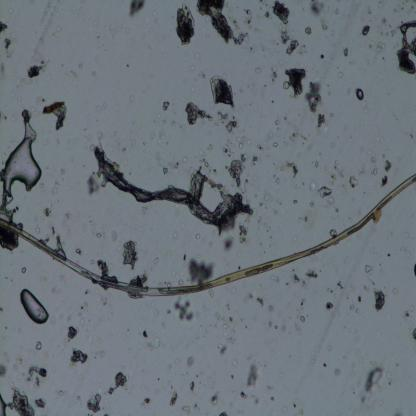Air bubble: (91, 144, 248, 233), (2, 132, 45, 200), (19, 289, 52, 327), (355, 86, 364, 102)
Background material: (249, 116, 303, 165), (196, 0, 246, 48), (29, 1, 56, 60), (0, 384, 47, 416), (224, 142, 250, 192), (359, 363, 389, 401), (397, 18, 416, 76), (325, 151, 351, 191), (212, 310, 235, 354), (173, 2, 196, 46), (209, 74, 236, 111), (158, 147, 181, 184), (256, 187, 284, 217), (281, 66, 307, 98), (119, 234, 140, 272), (186, 255, 214, 283), (172, 294, 198, 324), (266, 303, 288, 337), (74, 280, 92, 321), (42, 101, 67, 130), (183, 101, 211, 126), (370, 158, 393, 187), (304, 78, 323, 113), (84, 168, 105, 199), (93, 257, 118, 283), (290, 266, 319, 287), (24, 360, 49, 384), (50, 224, 67, 258), (214, 111, 238, 135), (274, 154, 297, 178), (278, 30, 301, 54), (106, 371, 128, 396), (0, 226, 19, 254), (189, 47, 205, 80), (138, 328, 162, 350), (237, 0, 254, 31), (200, 140, 216, 172), (328, 275, 348, 300), (82, 389, 102, 413), (20, 112, 37, 140), (272, 0, 291, 25), (68, 346, 90, 366), (288, 394, 307, 416), (246, 362, 260, 389), (379, 16, 397, 37), (124, 135, 141, 157), (26, 60, 48, 77), (143, 128, 169, 142), (344, 296, 364, 314), (396, 241, 414, 260), (128, 0, 146, 19), (269, 265, 285, 286), (53, 165, 62, 201), (130, 272, 149, 289), (316, 182, 333, 200), (300, 210, 318, 227), (256, 0, 271, 20), (181, 349, 196, 369), (372, 288, 385, 311), (308, 0, 324, 18), (0, 0, 18, 16), (64, 65, 81, 81), (65, 323, 79, 342), (374, 40, 388, 57), (166, 388, 179, 406), (220, 237, 235, 252), (148, 253, 160, 271), (403, 304, 415, 322), (93, 124, 103, 145), (159, 98, 172, 114), (271, 64, 280, 86), (360, 22, 374, 36), (305, 180, 318, 195), (316, 112, 327, 129), (178, 398, 191, 412), (202, 283, 214, 298), (42, 201, 52, 219), (138, 392, 150, 406), (395, 0, 409, 12), (318, 18, 328, 34), (350, 174, 360, 190), (251, 64, 264, 76), (3, 36, 12, 53), (236, 135, 246, 150), (137, 205, 149, 217), (332, 366, 344, 378), (237, 389, 250, 400), (124, 90, 134, 104), (0, 359, 7, 378), (96, 101, 108, 112), (209, 392, 218, 406), (363, 263, 374, 274), (255, 295, 264, 308), (34, 215, 40, 234), (342, 44, 350, 58), (328, 228, 338, 239), (324, 301, 334, 312), (316, 50, 326, 61), (400, 229, 411, 239), (410, 325, 416, 343), (318, 358, 327, 370), (67, 208, 74, 223), (94, 227, 104, 237), (252, 394, 259, 408), (194, 227, 202, 239), (336, 68, 344, 80), (72, 247, 82, 256), (33, 340, 42, 350), (312, 160, 321, 170), (307, 200, 316, 210), (0, 112, 9, 122), (293, 197, 301, 208), (56, 386, 64, 397), (299, 312, 306, 324), (188, 381, 195, 393), (0, 64, 6, 78), (0, 23, 7, 35), (230, 358, 240, 366), (266, 394, 276, 402), (219, 410, 230, 416), (394, 288, 400, 299), (328, 110, 335, 119), (227, 369, 233, 379), (190, 87, 198, 94), (306, 26, 312, 35), (413, 262, 416, 279), (21, 265, 26, 275), (364, 286, 370, 294), (76, 61, 82, 69), (368, 5, 372, 16), (335, 6, 340, 14), (16, 95, 21, 103), (73, 396, 79, 401), (29, 77, 32, 86), (334, 209, 339, 214), (315, 193, 315, 210)
